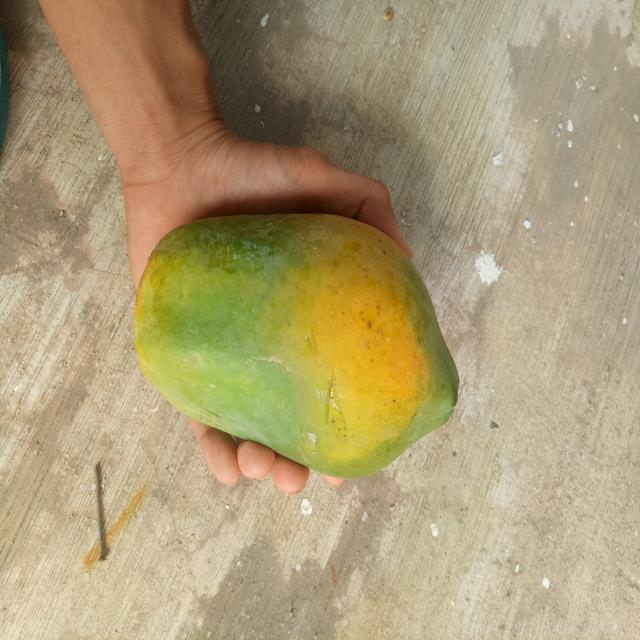Pepaya rippen: (122, 192, 464, 503)
